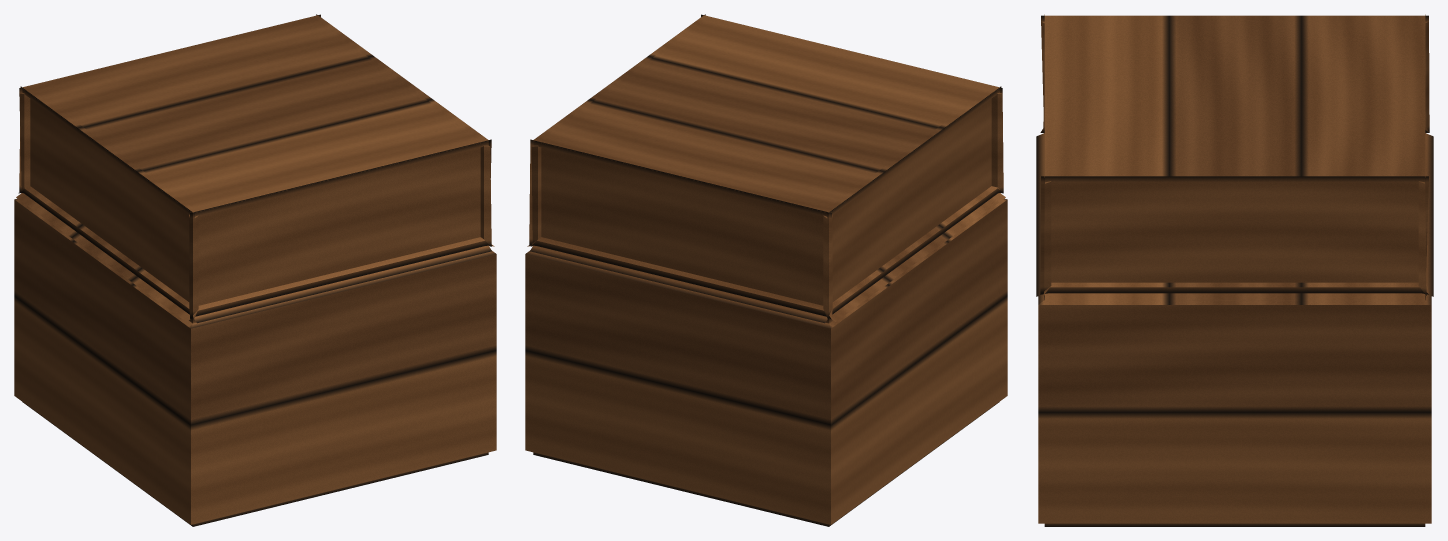
Rendered from Crate.fbx.
3 renders of one model, left to right at view 1: azimuth 30°, elevation 25°; view 2: azimuth 150°, elevation 25°; view 3: azimuth 270°, elevation 25°, orthographic. The views are drawn at different scales.
Visible parts, largest first — view 1: Crate; view 2: Crate; view 3: Crate.
Boxes of the visible parts, box(x1,y1,x2,y2) form: Crate: box(14, 14, 496, 526); Crate: box(525, 14, 1007, 526); Crate: box(1036, 14, 1433, 526).
Bounding box in the file's own units: 0.6057 × 0.5898 × 0.6057.
Materials: 1 (1 with a texture image).
